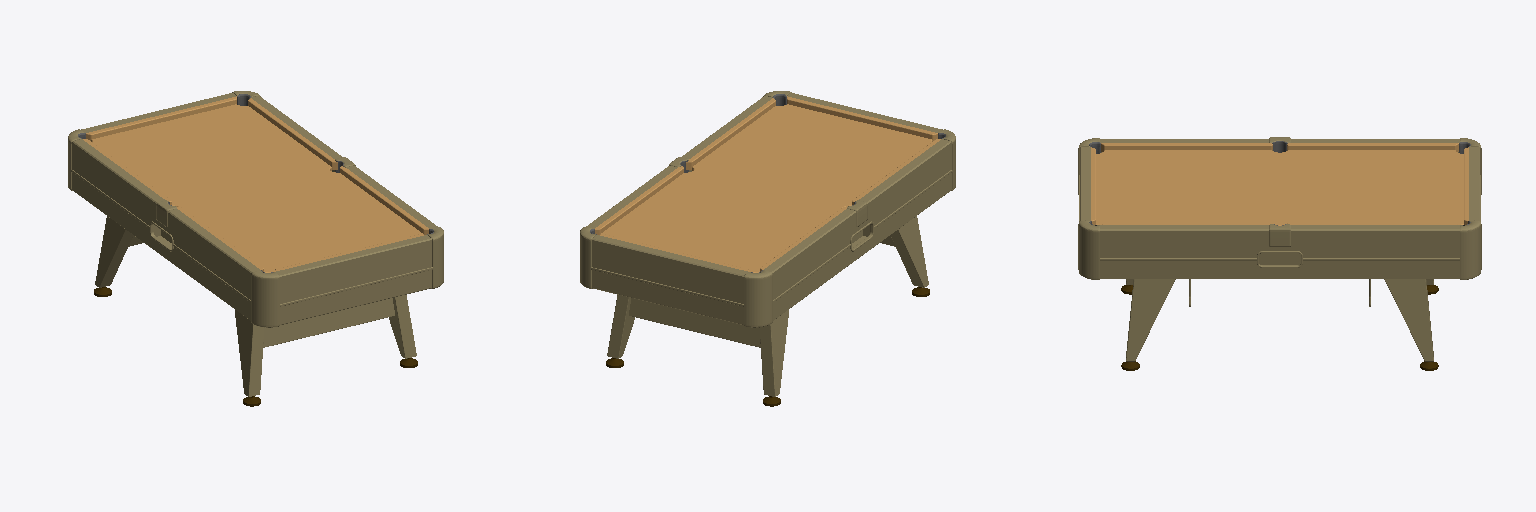
Rendered from taula.obj.
The picture shows the model from 3 angles: view 1: azimuth 30°, elevation 25°; view 2: azimuth 150°, elevation 25°; view 3: azimuth 270°, elevation 25°; orthographic projection.
Visible parts, largest first — view 1: mesa_bilha.001; view 2: mesa_bilha.001; view 3: mesa_bilha.001.
Boxes of the visible parts, x1=… form: mesa_bilha.001: x1=68, y1=91, x2=443, y2=406; mesa_bilha.001: x1=580, y1=91, x2=955, y2=406; mesa_bilha.001: x1=1078, y1=137, x2=1481, y2=370.
Bounding box in the file's own units: 4.7 × 3.45 × 8.64.